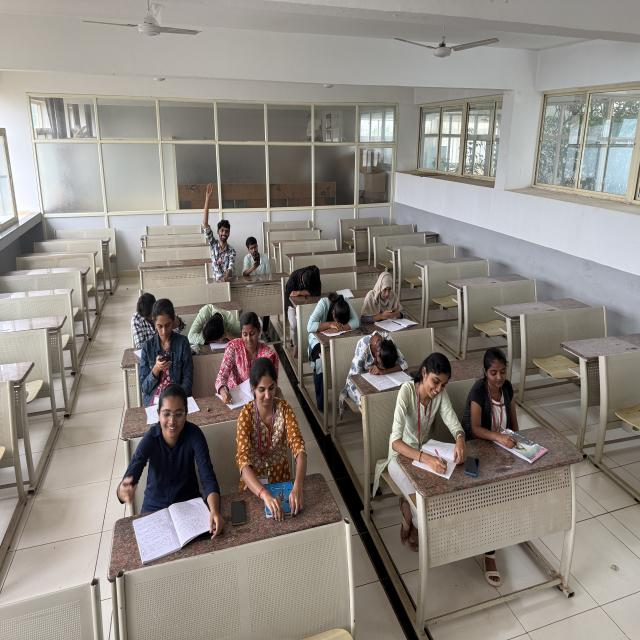Hand Rising: (195, 178, 239, 289)
Sleeping: (341, 329, 408, 393), (301, 286, 362, 343), (278, 252, 328, 315), (188, 294, 244, 349)
Using Phone: (132, 297, 197, 401), (358, 264, 420, 327), (236, 228, 274, 288)
Writing: (385, 347, 471, 510), (202, 302, 286, 416), (466, 344, 541, 466)
